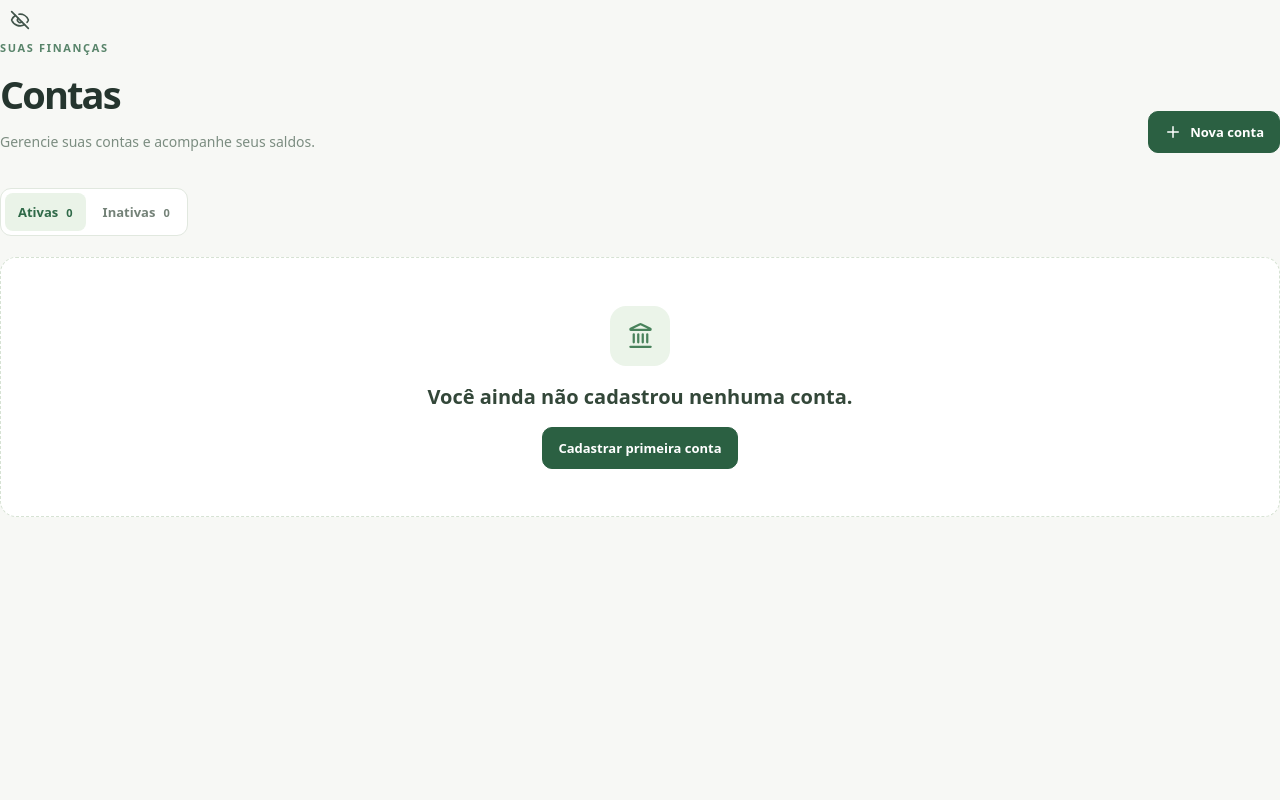
2: friendly empty state offers creation
Expected: the heading "Você ainda não cadastrou nenhuma conta." is shown, x1=428 y1=383 x2=852 y2=410
Click the button "Cadastrar primeira conta". click: point(640, 448)
box: x1=542 y1=427 x2=738 y2=469
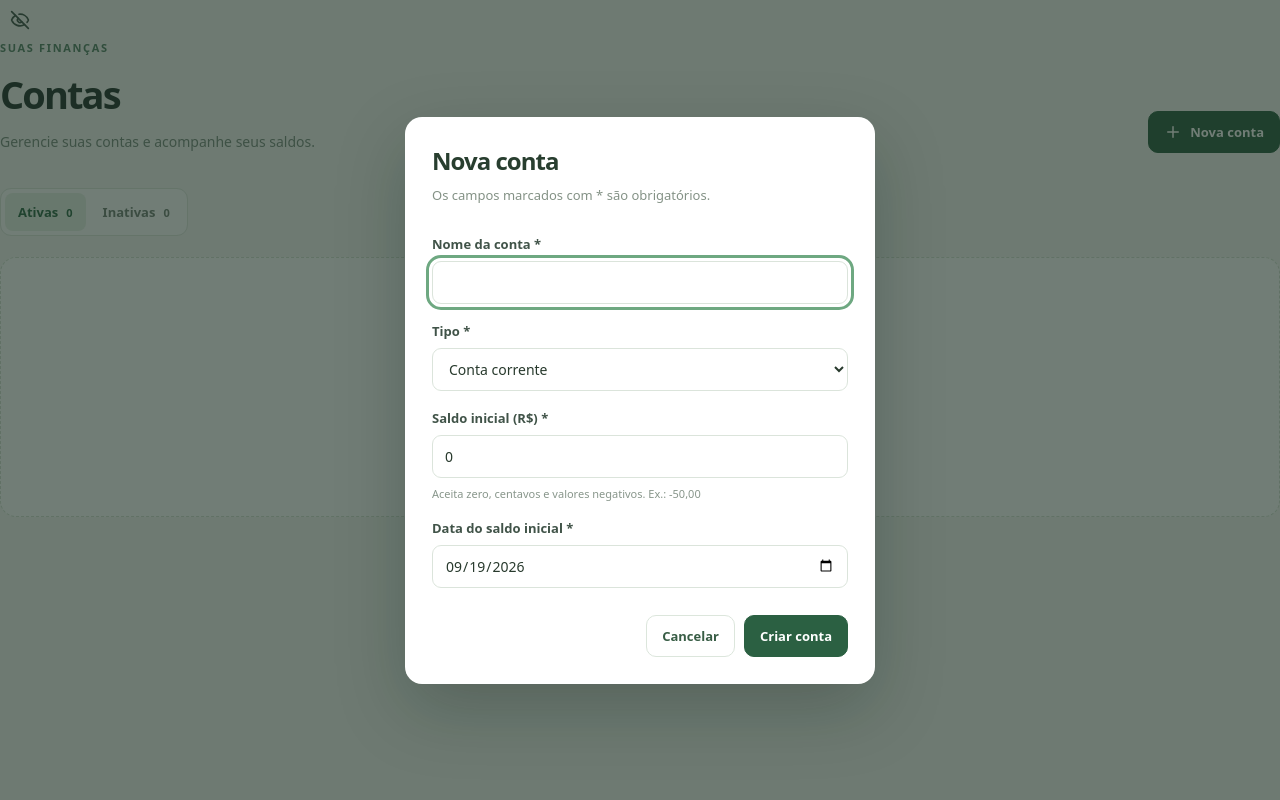
Expected: the dialog is shown, x1=405 y1=116 x2=875 y2=684
